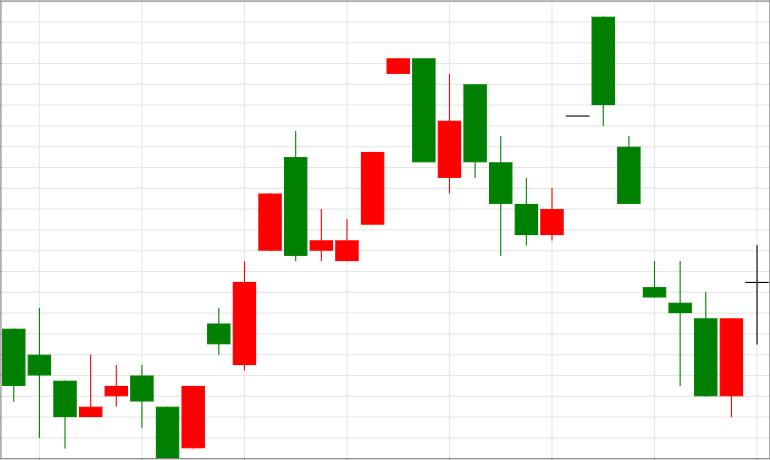bearish_engulfing_fall: (309, 58, 436, 261)
